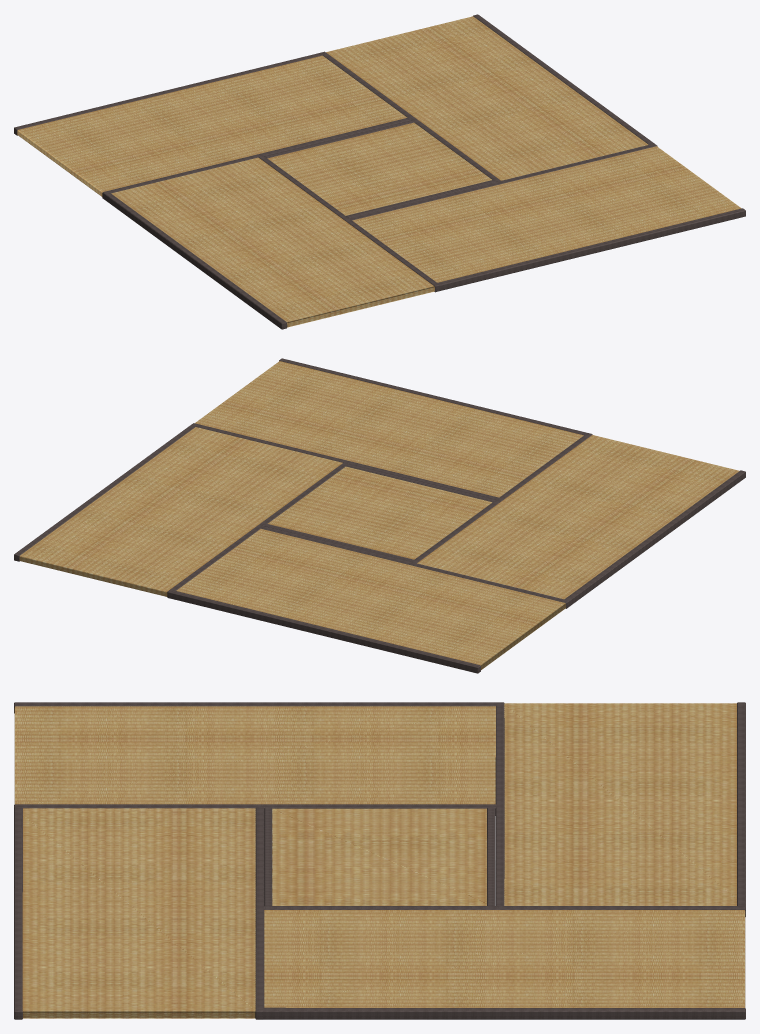
File: Tatami.FBX
3 views of the same model, one above another, from view 1: azimuth 30°, elevation 25°; view 2: azimuth 150°, elevation 25°; view 3: azimuth 270°, elevation 25° (orthographic). The views are drawn at different scales.
Parts seen in each view (by area): view 1: tatami; view 2: tatami; view 3: tatami.
Part boxes in pixels (x1,y1,x2,y2): tatami: (14, 14, 745, 329); tatami: (14, 358, 745, 673); tatami: (14, 702, 745, 1019).
Bounding box in the file's own units: 340 × 4.57 × 340.
2 materials, 2 textured.
